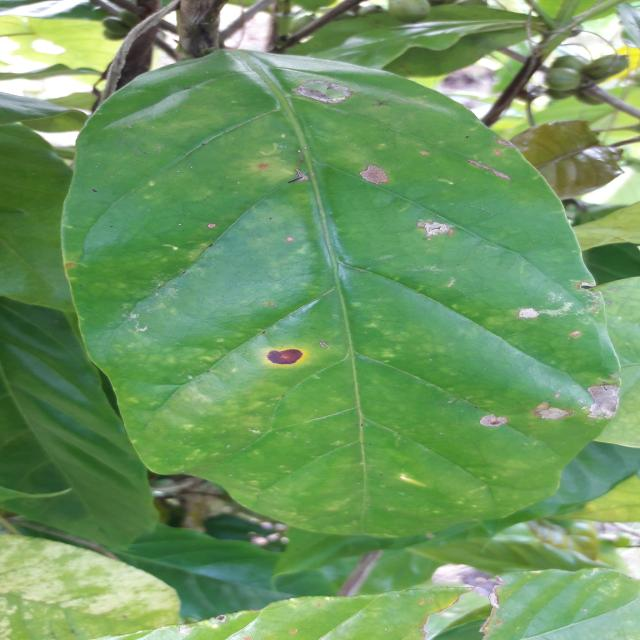Enfermedad-Roya: (60, 48, 624, 543)
